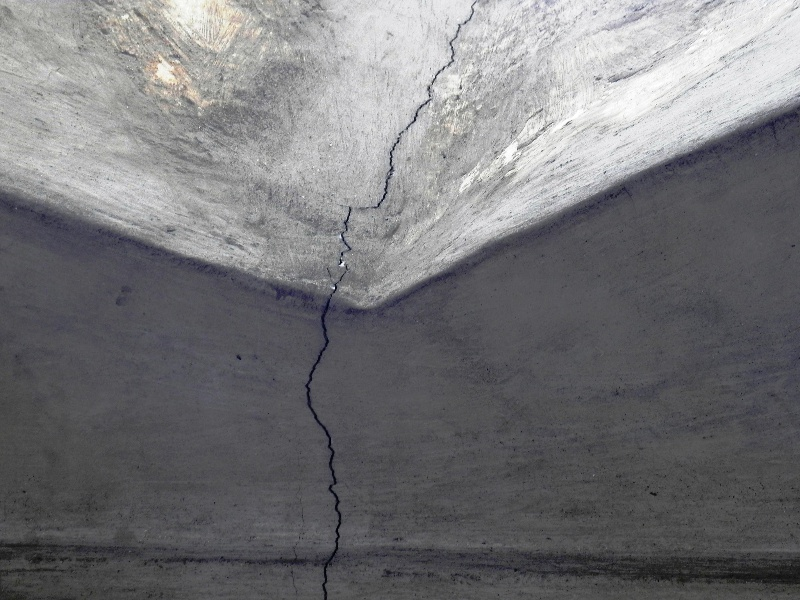Crack: (296, 1, 480, 594)
